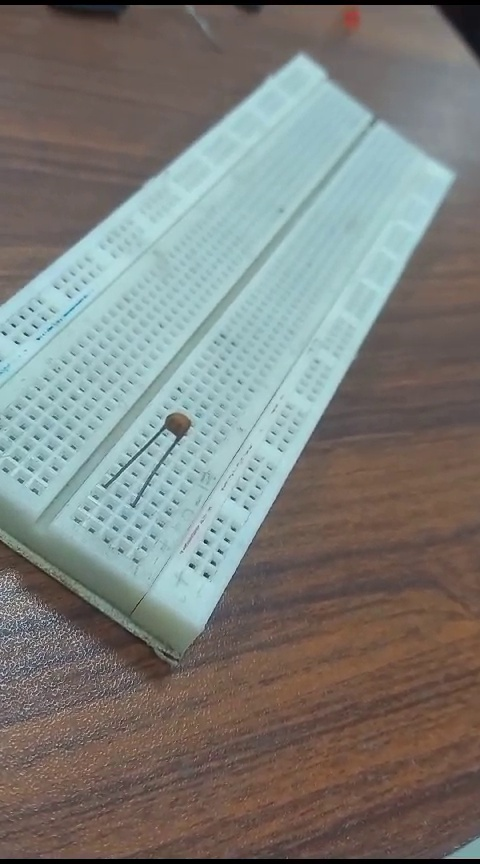ceramic capacitor: (107, 412, 206, 508)
